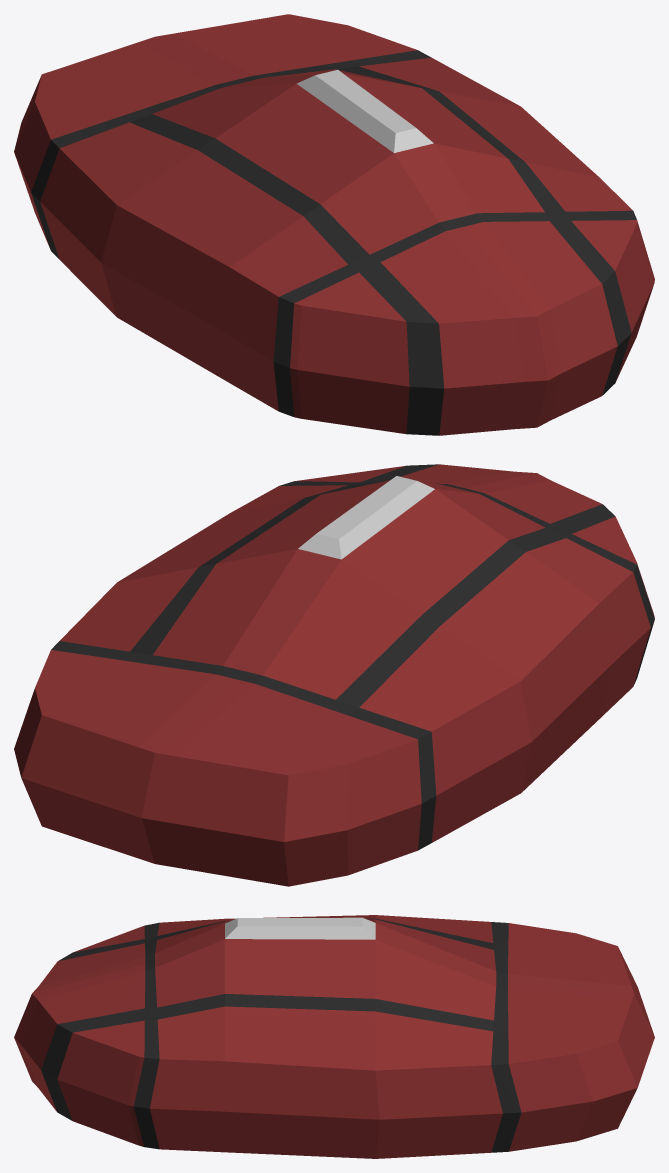
The model's file is Mouse_1C.fbx.
3 renders of one model, top to bottom at view 1: azimuth 30°, elevation 25°; view 2: azimuth 150°, elevation 25°; view 3: azimuth 270°, elevation 25°, orthographic. The views are drawn at different scales.
Parts seen in each view (by area): view 1: Mouse_1C; view 2: Mouse_1C; view 3: Mouse_1C.
Boxes of the visible parts, x1=… form: Mouse_1C: x1=14, y1=14, x2=654, y2=435; Mouse_1C: x1=14, y1=464, x2=654, y2=886; Mouse_1C: x1=14, y1=915, x2=654, y2=1158.
Size of the model in its own units: 0.053 by 0.0237 by 0.0867.
